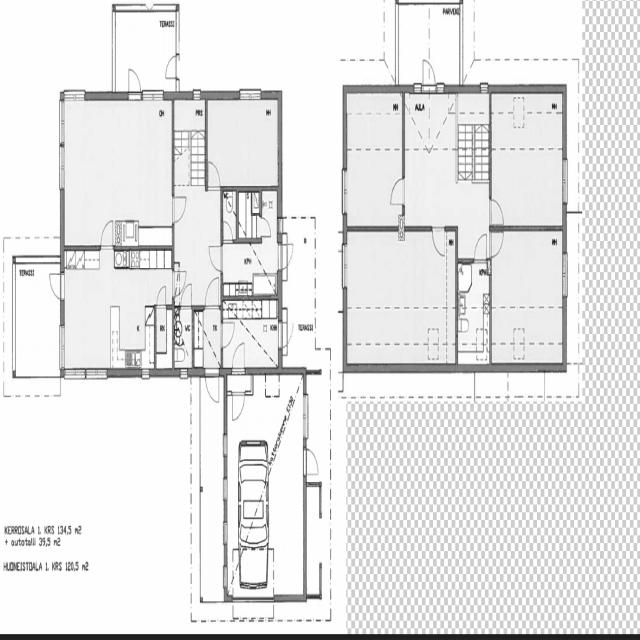door: (171, 180, 222, 306), (193, 306, 222, 369), (206, 244, 223, 304), (420, 54, 437, 92), (170, 189, 188, 224), (388, 172, 406, 207), (126, 63, 143, 99), (204, 366, 220, 404), (488, 195, 507, 227), (430, 223, 447, 258), (488, 226, 506, 259), (303, 444, 320, 478), (472, 229, 489, 263), (230, 339, 247, 373), (204, 274, 220, 310), (170, 265, 187, 298), (99, 215, 115, 250), (230, 387, 246, 422), (207, 241, 224, 273), (220, 317, 237, 348), (279, 316, 295, 348), (206, 156, 221, 190), (163, 50, 179, 81), (48, 269, 64, 299), (279, 239, 294, 270), (180, 280, 193, 310), (155, 281, 168, 309), (221, 218, 235, 242), (260, 214, 273, 239)
window: (221, 433, 229, 509), (300, 386, 310, 444), (560, 247, 570, 301), (57, 139, 67, 192), (561, 153, 570, 207), (57, 96, 66, 150), (340, 163, 349, 214), (62, 85, 87, 102), (341, 238, 349, 291), (58, 321, 66, 372), (238, 85, 263, 100), (142, 86, 164, 101), (435, 78, 450, 93), (478, 78, 491, 94), (412, 76, 422, 94), (193, 84, 202, 98)
zone: (61, 94, 176, 246), (344, 224, 455, 370), (490, 88, 566, 229), (488, 225, 565, 364), (345, 89, 404, 227), (404, 100, 461, 230), (206, 91, 281, 186), (62, 250, 113, 377), (173, 184, 222, 306), (14, 258, 61, 384), (112, 265, 156, 372), (228, 188, 272, 286), (223, 296, 281, 370), (457, 260, 489, 366), (222, 238, 280, 296), (457, 89, 490, 185), (174, 94, 206, 191), (120, 247, 175, 297), (192, 306, 222, 369), (236, 188, 262, 240), (173, 305, 193, 370), (155, 302, 173, 370), (222, 188, 238, 240), (488, 195, 506, 228)
